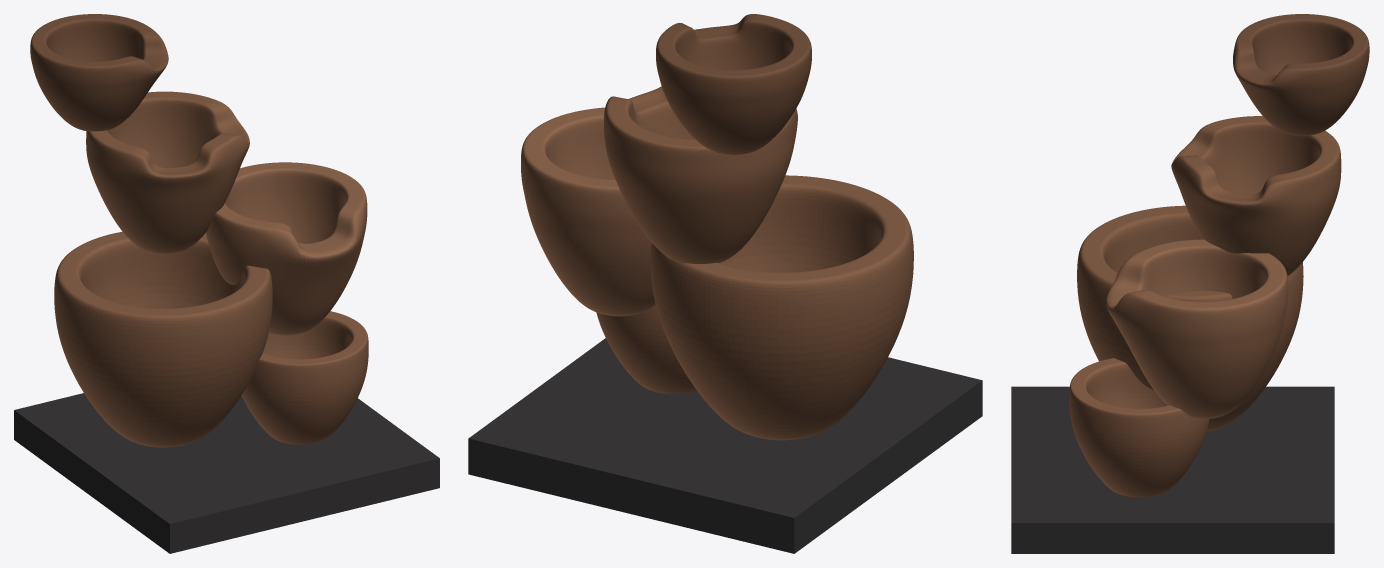
Rendered from Fountain 2.fbx.
3 views of the same model, side by side, from view 1: azimuth 30°, elevation 25°; view 2: azimuth 150°, elevation 25°; view 3: azimuth 270°, elevation 25° (orthographic). The views are drawn at different scales.
Visible parts, largest first — view 1: Cube, Vert.009, Vert.007, Vert.006, Vert.005, Vert.008; view 2: Cube, Vert.009, Vert.006, Vert.007, Vert.005, Vert.008; view 3: Cube, Vert.007, Vert.006, Vert.005, Vert.008, Vert.009.
Part boxes in pixels (x1,y1,x2,y2): Cube: (14,393,439,553); Vert.009: (54,231,272,447); Vert.007: (206,162,367,335); Vert.006: (86,91,249,253); Vert.005: (30,14,168,131); Vert.008: (241,311,368,444); Cube: (468,338,982,553); Vert.009: (650,175,913,440); Vert.006: (603,86,797,263); Vert.007: (521,107,655,316); Vert.005: (656,14,811,154); Vert.008: (596,305,696,394); Cube: (1011,386,1334,553); Vert.007: (1106,239,1288,418); Vert.006: (1171,116,1341,276); Vert.005: (1233,14,1369,136); Vert.008: (1069,358,1209,497); Vert.009: (1077,205,1303,431).
Size of the model in its own units: 96.42 by 124 by 98.21.
